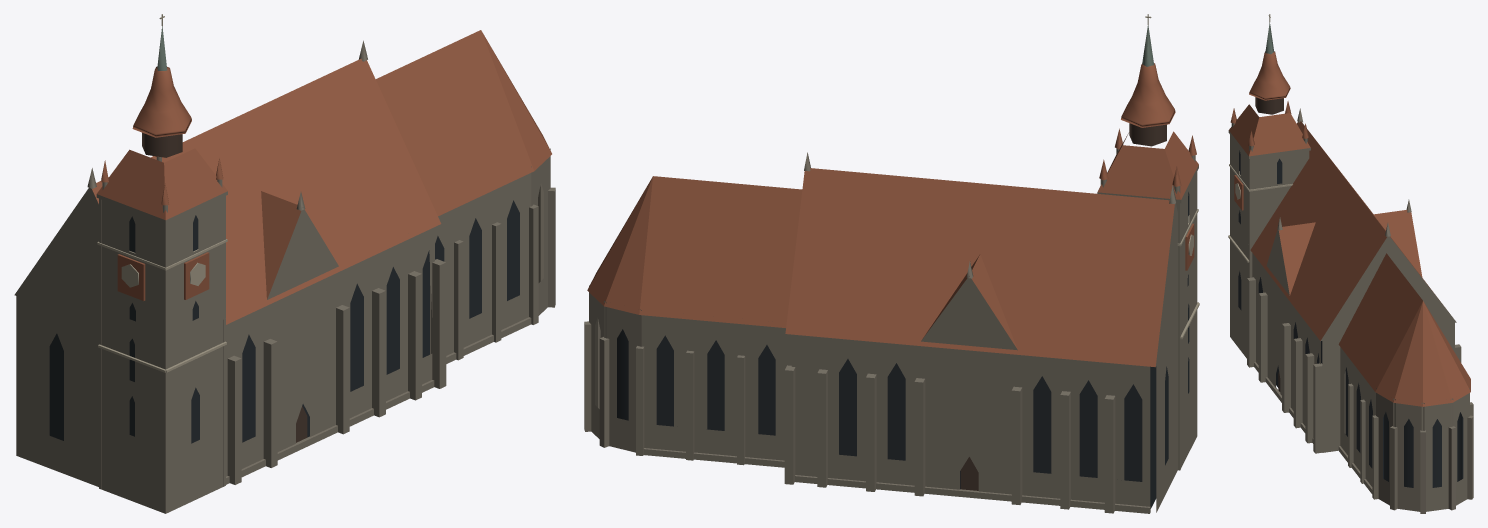
Rendered from black-church-brasov-far.glb.
The picture shows the model from 3 angles, left to right: view 1: azimuth 30°, elevation 25°; view 2: azimuth 150°, elevation 25°; view 3: azimuth 270°, elevation 25°; orthographic projection. The views are drawn at different scales.
Parts seen in each view (by area): view 1: black-church-brasov-0-stone, black-church-brasov-0-roof, black-church-brasov-0-glass, black-church-brasov-0-trim, black-church-brasov-0-wood; view 2: black-church-brasov-0-roof, black-church-brasov-0-stone, black-church-brasov-0-glass, black-church-brasov-0-wood; view 3: black-church-brasov-0-stone, black-church-brasov-0-roof, black-church-brasov-0-glass, black-church-brasov-0-wood, black-church-brasov-0-trim.
Boxes of the visible parts, <box> form: black-church-brasov-0-stone: <box>14,40,555,513</box>; black-church-brasov-0-roof: <box>92,30,551,324</box>; black-church-brasov-0-glass: <box>49,200,519,443</box>; black-church-brasov-0-trim: <box>97,14,227,372</box>; black-church-brasov-0-wood: <box>142,132,307,442</box>; black-church-brasov-0-roof: <box>587,63,1198,367</box>; black-church-brasov-0-stone: <box>584,148,1198,513</box>; black-church-brasov-0-glass: <box>617,192,1189,508</box>; black-church-brasov-0-wood: <box>960,123,1166,490</box>; black-church-brasov-0-stone: <box>1228,108,1473,513</box>; black-church-brasov-0-roof: <box>1229,51,1470,406</box>; black-church-brasov-0-glass: <box>1238,150,1463,487</box>; black-church-brasov-0-wood: <box>1255,97,1283,391</box>; black-church-brasov-0-trim: <box>1228,14,1292,262</box>.
Size of the model in its own units: 82.13 by 65 by 43.65.
